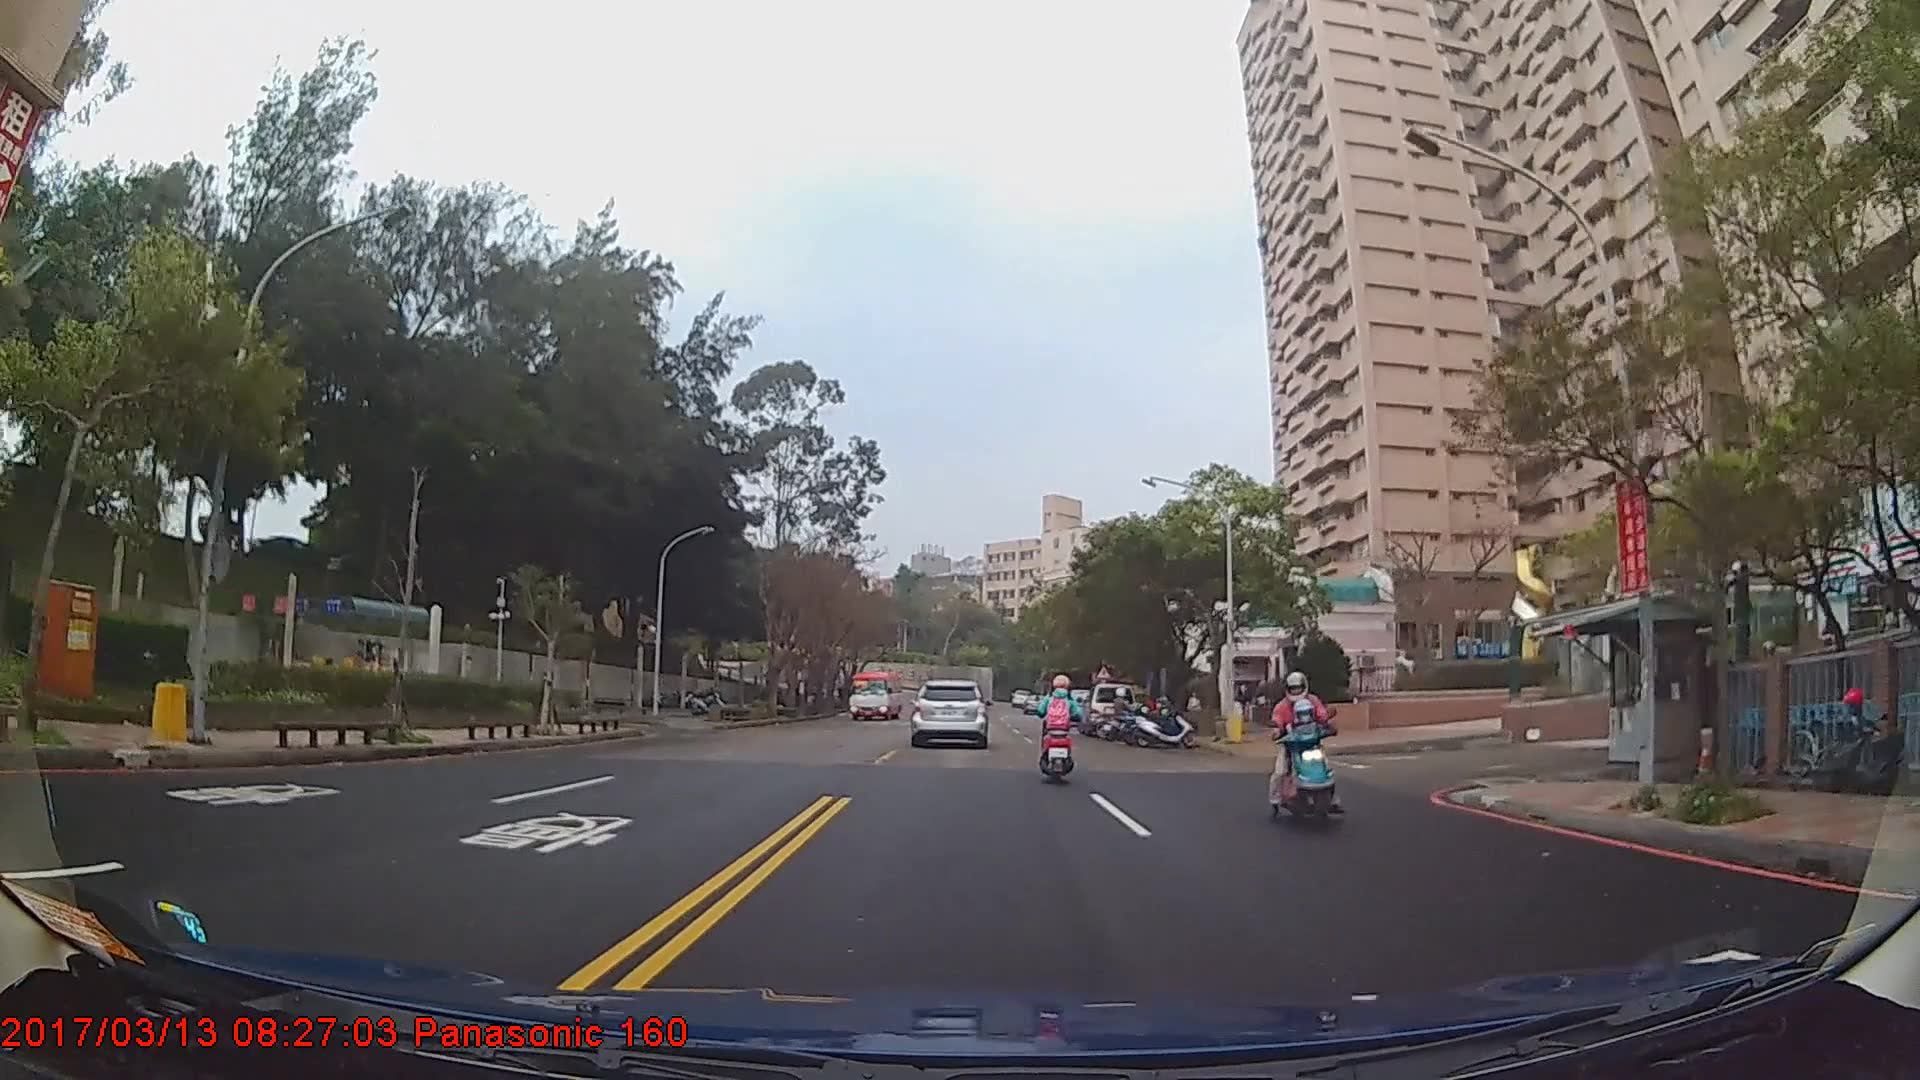rider: (1270, 677, 1343, 832), (1036, 670, 1080, 790), (1102, 688, 1140, 744)
vehicle: (910, 675, 988, 751), (846, 669, 903, 723), (1081, 682, 1134, 737)
